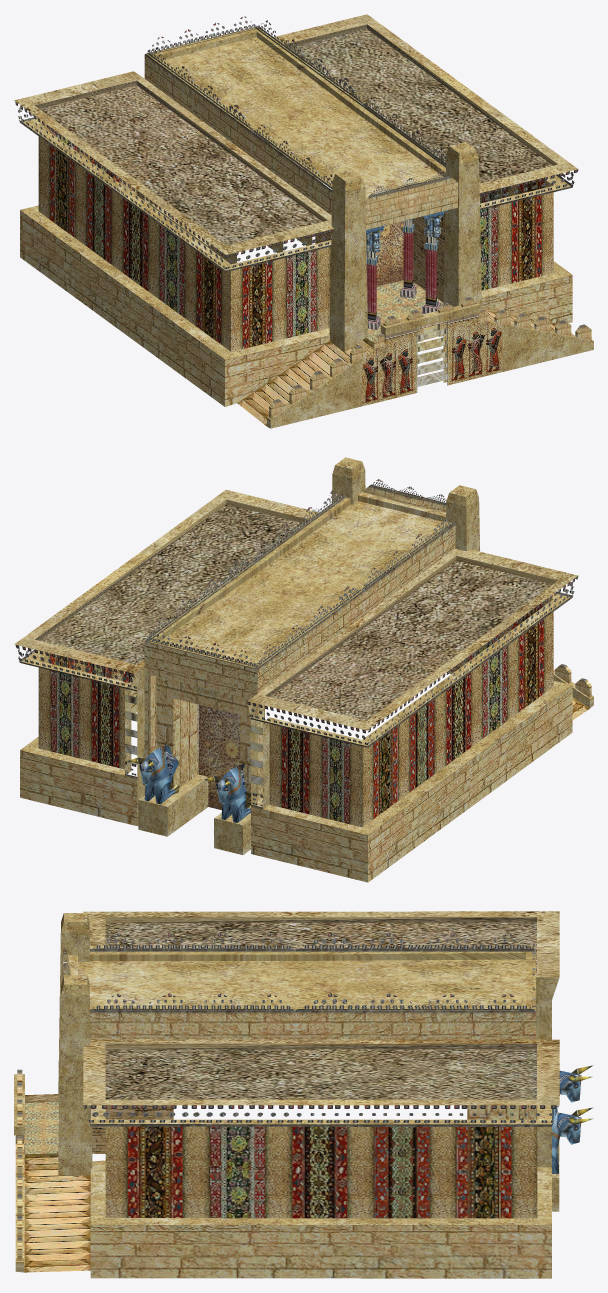
File: pers_sb_1.dae
3 views of the same model, one above another, from view 1: azimuth 30°, elevation 25°; view 2: azimuth 150°, elevation 25°; view 3: azimuth 270°, elevation 25° (orthographic). The views are drawn at different scales.
Parts seen in each view (by area): view 1: Object01; view 2: Object01; view 3: Object01.
Part boxes in pixels (left/top/right/bottom): Object01: left=14, top=14, right=593, bottom=428; Object01: left=14, top=457, right=593, bottom=882; Object01: left=14, top=911, right=593, bottom=1278.
Size of the model in its own units: 18.86 by 23.82 by 10.66.
